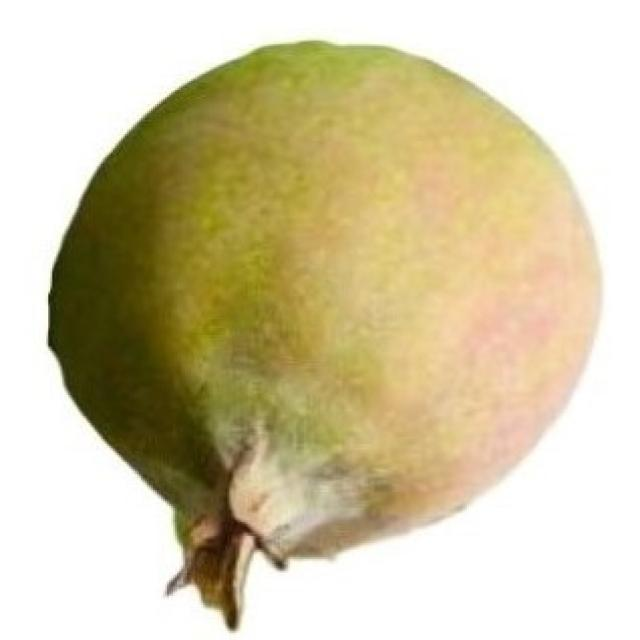50-_ripeness: (37, 31, 611, 596)
